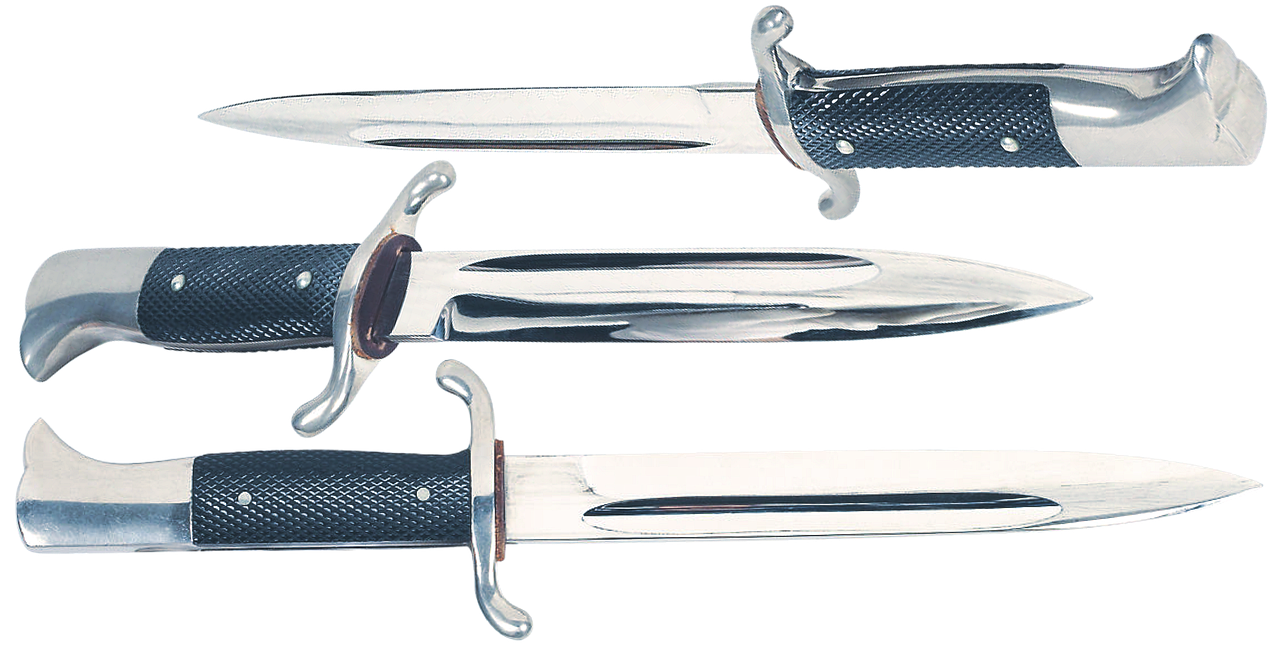knife: (14, 355, 1259, 642), (26, 160, 1104, 440), (187, 5, 1280, 223)
